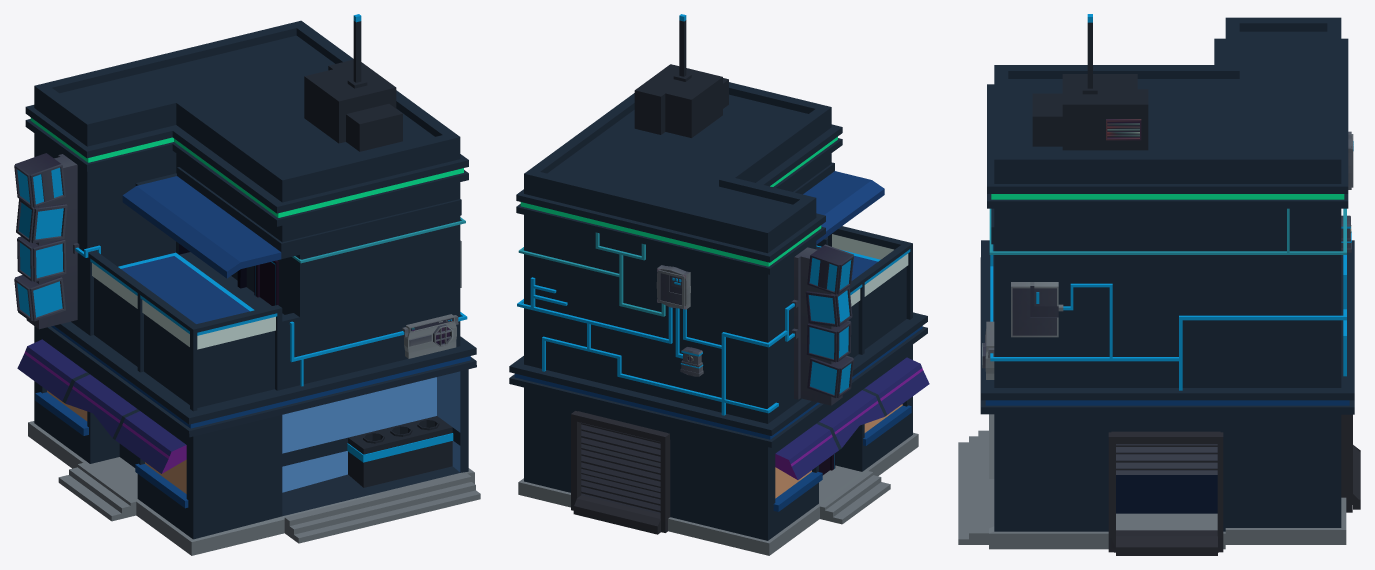
File: Building_Tall06.fbx
3 views of the same model, side by side, from view 1: azimuth 30°, elevation 25°; view 2: azimuth 150°, elevation 25°; view 3: azimuth 270°, elevation 25° (orthographic). The views are drawn at different scales.
Visible parts, largest first — view 1: Apartment 08.001; view 2: Apartment 08.001; view 3: Apartment 08.001.
Boxes of the visible parts, left/top/right/bottom form: Apartment 08.001: left=14, top=14, right=480, bottom=555; Apartment 08.001: left=509, top=14, right=929, bottom=555; Apartment 08.001: left=958, top=14, right=1360, bottom=555.
Size of the model in its own units: 1139 by 1450 by 1065.
